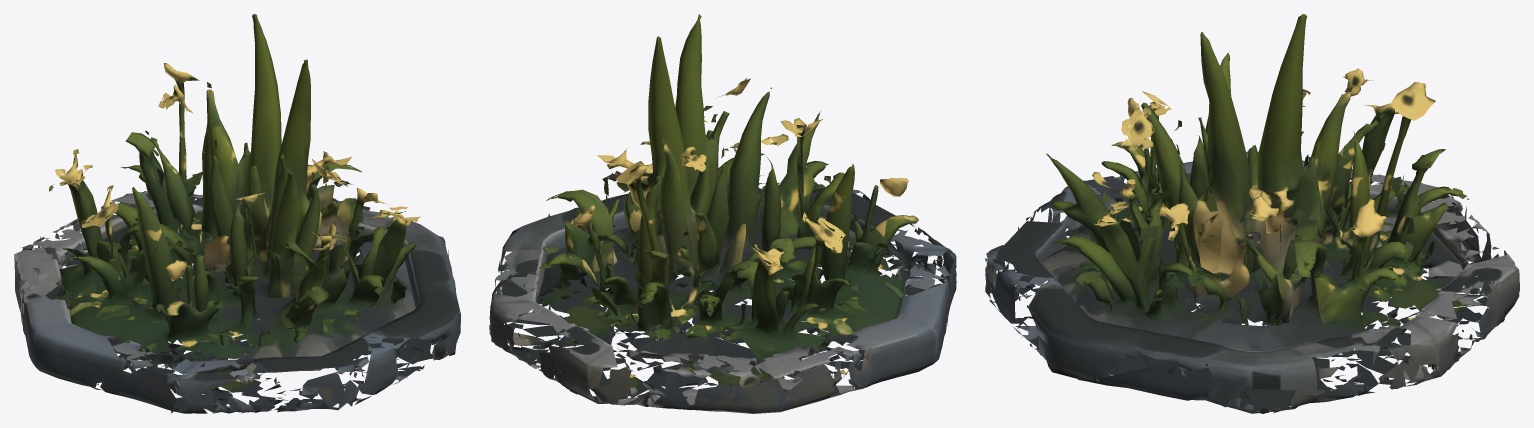
Rendered from SM_Utileria_Maceta_01.fbx.
3 views of the same model, side by side, from view 1: azimuth 30°, elevation 25°; view 2: azimuth 150°, elevation 25°; view 3: azimuth 270°, elevation 25° (orthographic). The views are drawn at different scales.
Parts seen in each view (by area): view 1: SM_Utileria_Maceta_01; view 2: SM_Utileria_Maceta_01; view 3: SM_Utileria_Maceta_01.
Part boxes in pixels (<box>): SM_Utileria_Maceta_01: <box>14,14,460,413</box>; SM_Utileria_Maceta_01: <box>489,14,956,413</box>; SM_Utileria_Maceta_01: <box>985,14,1519,413</box>.
Size of the model in its own units: 0.9966 by 0.6421 by 0.9985.
Materials: 1 (1 with a texture image).
